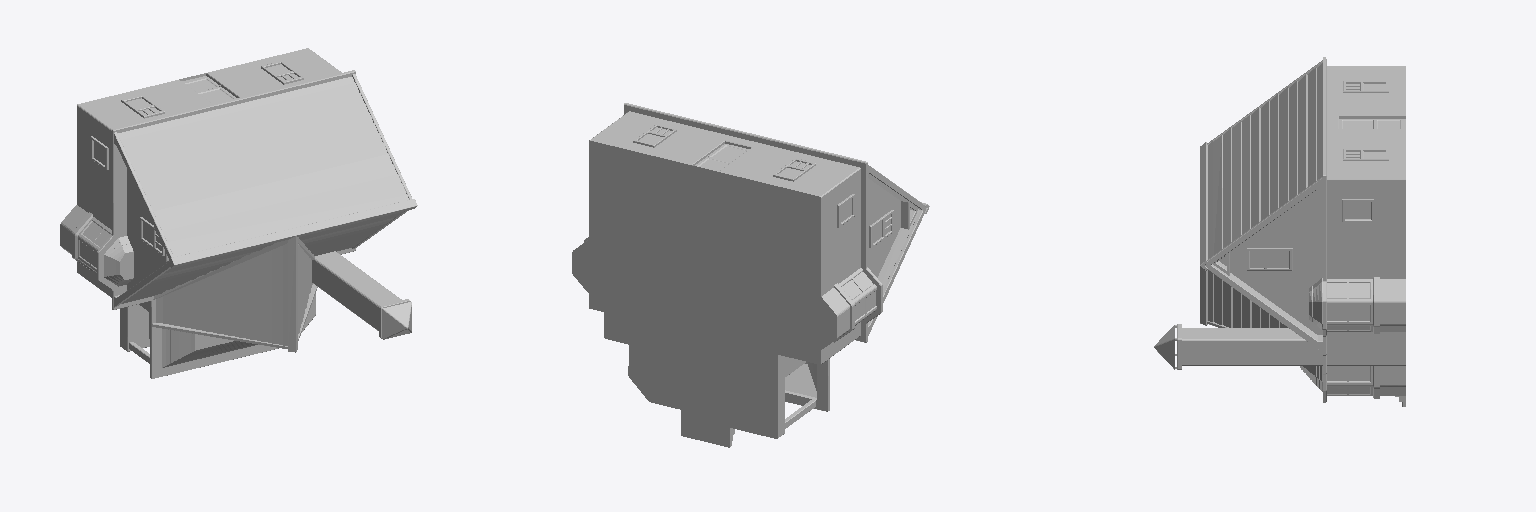
Rendered from house.obj.
3 renders of one model, left to right at view 1: azimuth 30°, elevation 25°; view 2: azimuth 150°, elevation 25°; view 3: azimuth 270°, elevation 25°, orthographic.
Parts seen in each view (by area): view 1: Object.1; view 2: Object.1; view 3: Object.1.
Part boxes in pixels (left/top/right/bottom): Object.1: left=60, top=48, right=417, bottom=378; Object.1: left=572, top=103, right=929, bottom=447; Object.1: left=1154, top=57, right=1405, bottom=406.
Size of the model in its own units: 2514 by 2461 by 2017.